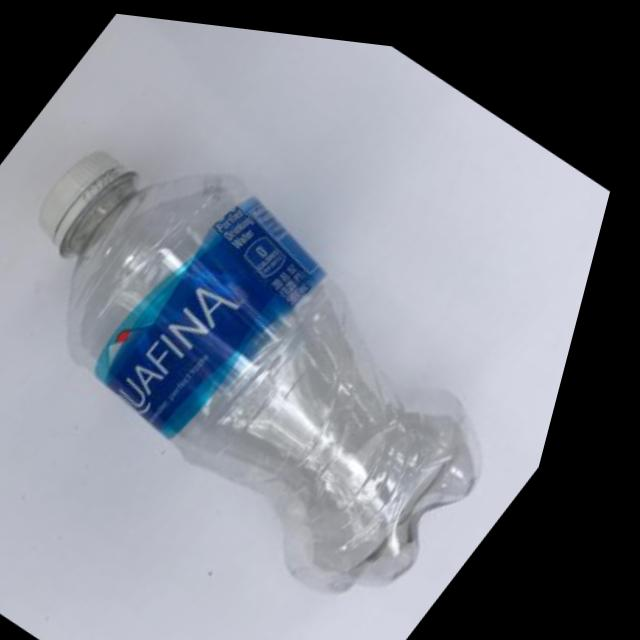plastic: (0, 10, 638, 640)
